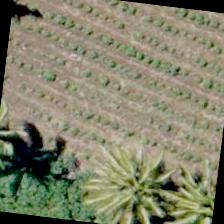Kelapa_Sawit: (71, 144, 171, 223), (155, 158, 219, 223)
